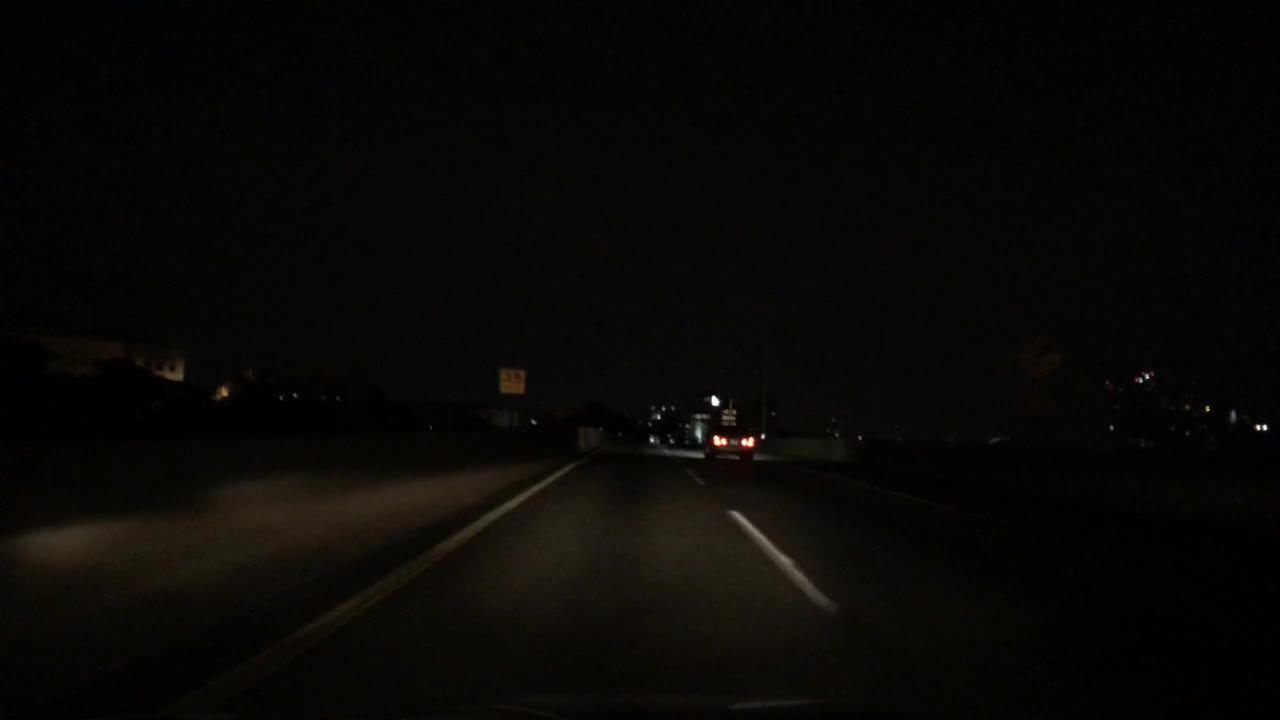car: (701, 423, 756, 463), (666, 426, 695, 449), (632, 430, 660, 449)
traffic sign: (497, 364, 527, 395), (719, 406, 742, 416), (714, 415, 740, 423)
